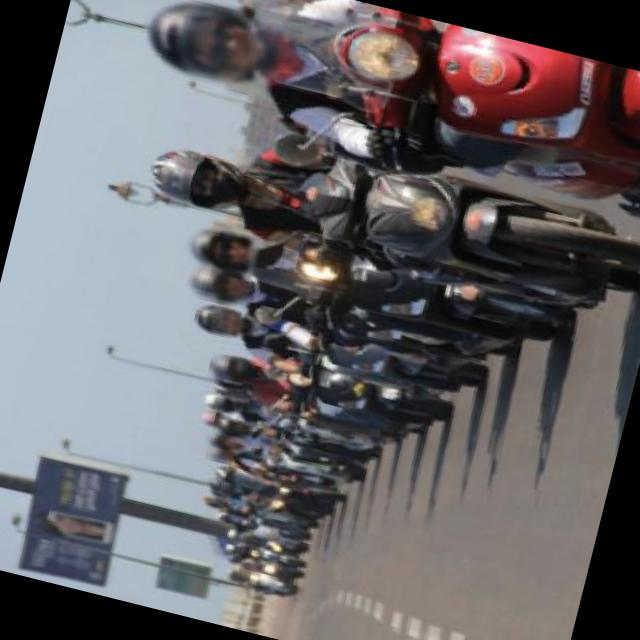With Helmet: (133, 0, 291, 98), (138, 135, 255, 219), (181, 217, 264, 280), (186, 263, 256, 309), (192, 301, 248, 342), (207, 349, 260, 386), (212, 412, 252, 438), (203, 427, 240, 453), (204, 442, 238, 465)
